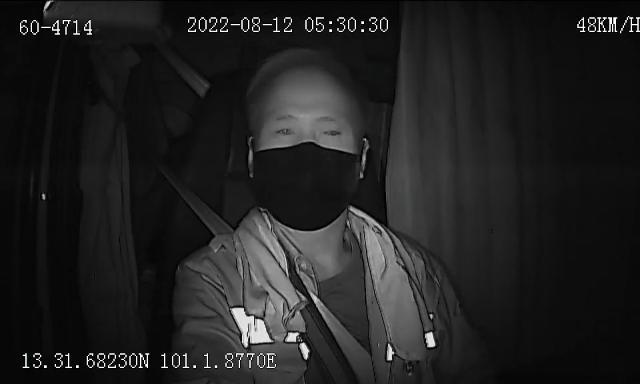SafeDriving: (313, 121, 347, 142), (268, 118, 301, 139)
Seatbelt: (186, 196, 377, 384)
